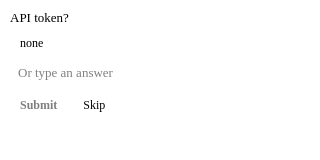
InputRequestPrompt questions › offers ordinary choices and submits only once every question is answered
The image size is (320, 160).
Expected: the button "Submit" is disabled, [10, 94, 67, 116]
What coordinates should you click on to do the following:
click the button "none"
I would click on:
 (32, 42)
Its box is [10, 32, 53, 54].
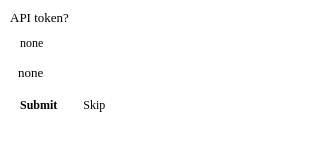
Result: the button "Submit" is enabled at [10, 94, 67, 116]
